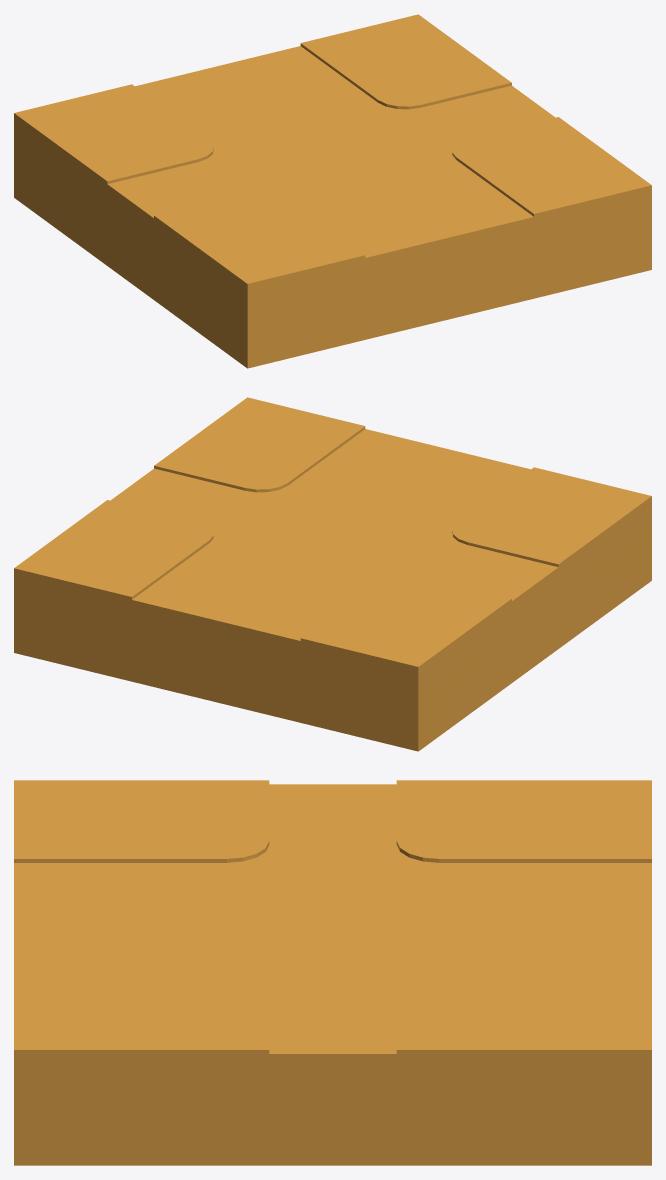
Rendered from tile-road-mainroad-intersection.fbx.
3 views of the same model, one above another, from view 1: azimuth 30°, elevation 25°; view 2: azimuth 150°, elevation 25°; view 3: azimuth 270°, elevation 25° (orthographic). The views are drawn at different scales.
Visible parts, largest first — view 1: tile-road-mainroad-intersection; view 2: tile-road-mainroad-intersection; view 3: tile-road-mainroad-intersection.
Part boxes in pixels (<box>): tile-road-mainroad-intersection: <box>14,14,651,368</box>; tile-road-mainroad-intersection: <box>14,397,651,751</box>; tile-road-mainroad-intersection: <box>14,780,651,1165</box>.
Size of the model in its own units: 30 by 6 by 30.
